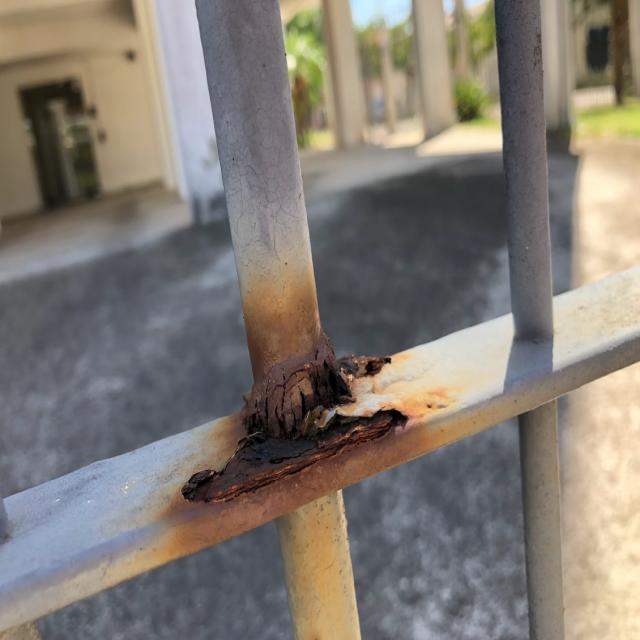Crevice Corrosion: (182, 356, 406, 500)
